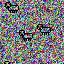sheep: (4, 1, 20, 14), (36, 23, 52, 36), (19, 29, 34, 42)
